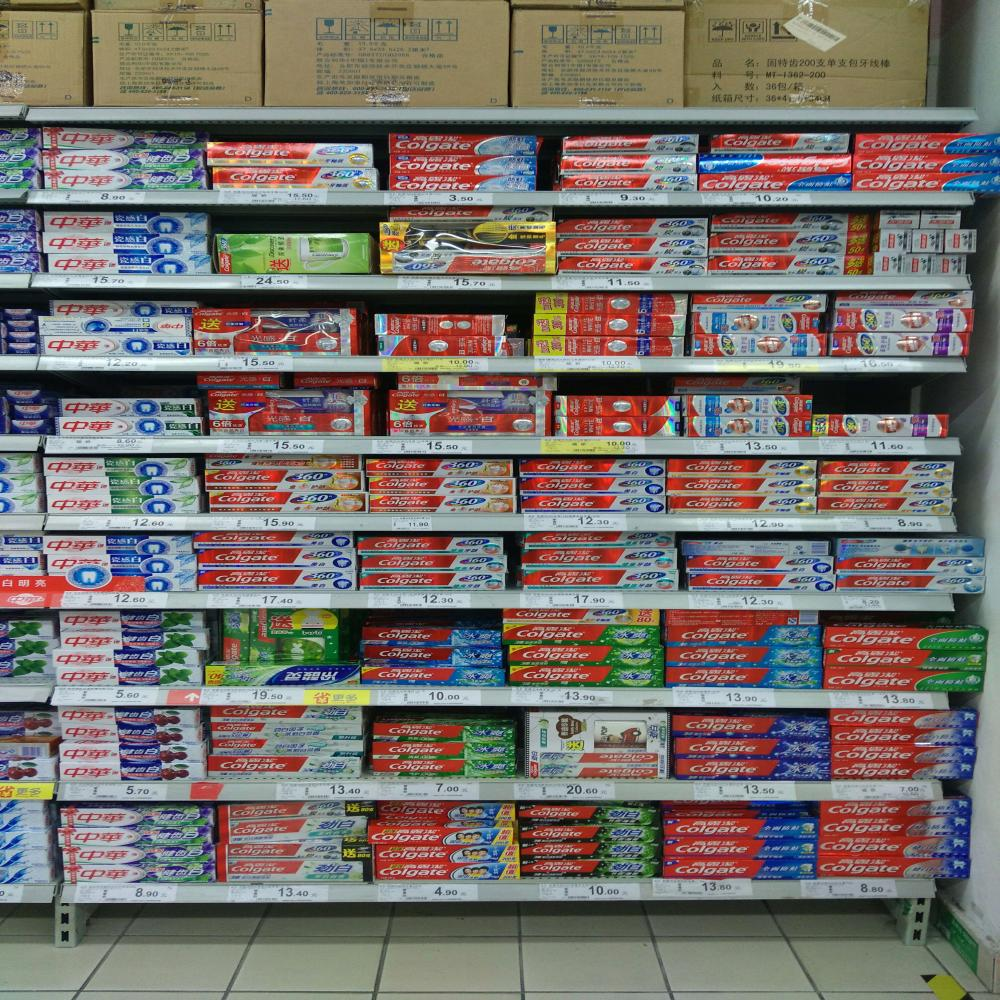shelf: (1, 686, 952, 710), (0, 877, 936, 901), (0, 434, 963, 456), (0, 781, 944, 800), (0, 354, 966, 372), (2, 514, 958, 532), (0, 593, 956, 611), (3, 188, 976, 205), (0, 103, 980, 119), (0, 274, 974, 289)
